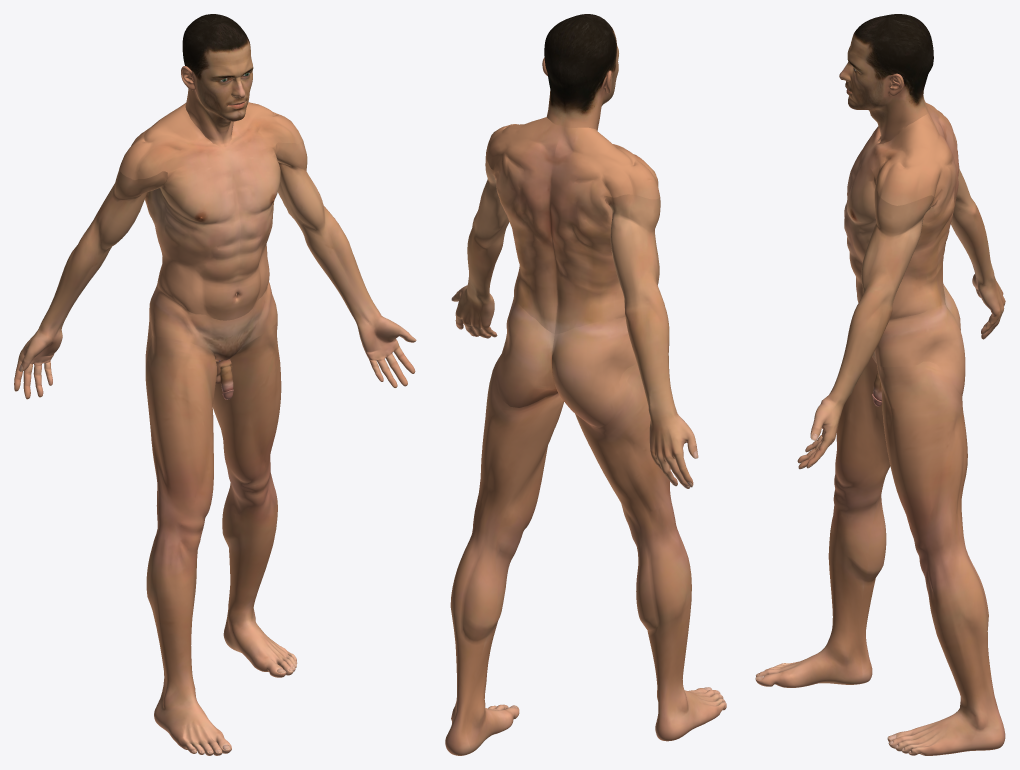
Rendered from acu-male.glb.
The picture shows the model from 3 angles, left to right: view 1: azimuth 30°, elevation 25°; view 2: azimuth 150°, elevation 25°; view 3: azimuth 270°, elevation 25°; orthographic projection. The views are drawn at different scales.
Visible parts, largest first — view 1: jms_Leg_R, jms_Torso_R, jms_Leg_L, jms_Torso_L, jms_Arm_L, jms_Arm_R, jms_Head_R, jms_Head_L; view 2: jms_Torso_R, jms_Leg_L, jms_Leg_R, jms_Torso_L, jms_Arm_R, jms_Head_R, jms_Arm_L, jms_Head_L; view 3: jms_Leg_L, jms_Torso_L, jms_Leg_R, jms_Arm_L, jms_Head_L, jms_Arm_R, jms_Torso_R.
Part boxes in pixels (x1=…): jms_Leg_R: x1=145, y1=335, x2=231, y2=755; jms_Torso_R: x1=119, y1=103, x2=240, y2=399; jms_Leg_L: x1=212, y1=319, x2=297, y2=677; jms_Torso_L: x1=215, y1=102, x2=302, y2=399; jms_Arm_L: x1=275, y1=141, x2=416, y2=388; jms_Arm_R: x1=14, y1=168, x2=167, y2=399; jms_Head_R: x1=181, y1=14, x2=243, y2=147; jms_Head_L: x1=208, y1=14, x2=253, y2=146; jms_Torso_R: x1=549, y1=126, x2=659, y2=427; jms_Leg_L: x1=445, y1=339, x2=563, y2=755; jms_Leg_R: x1=575, y1=362, x2=726, y2=741; jms_Torso_L: x1=486, y1=117, x2=562, y2=407; jms_Arm_R: x1=605, y1=194, x2=698, y2=488; jms_Head_R: x1=560, y1=14, x2=618, y2=130; jms_Arm_L: x1=451, y1=154, x2=509, y2=338; jms_Head_L: x1=542, y1=14, x2=592, y2=125; jms_Leg_L: x1=877, y1=361, x2=1005, y2=755; jms_Torso_L: x1=844, y1=110, x2=965, y2=406; jms_Leg_R: x1=755, y1=357, x2=890, y2=687; jms_Arm_L: x1=797, y1=178, x2=934, y2=469; jms_Head_L: x1=839, y1=16, x2=933, y2=144; jms_Arm_R: x1=951, y1=169, x2=1005, y2=339; jms_Torso_R: x1=844, y1=103, x2=960, y2=394.
Size of the model in its own units: 88.67 by 182 by 59.1.
26 materials, 18 textured.
